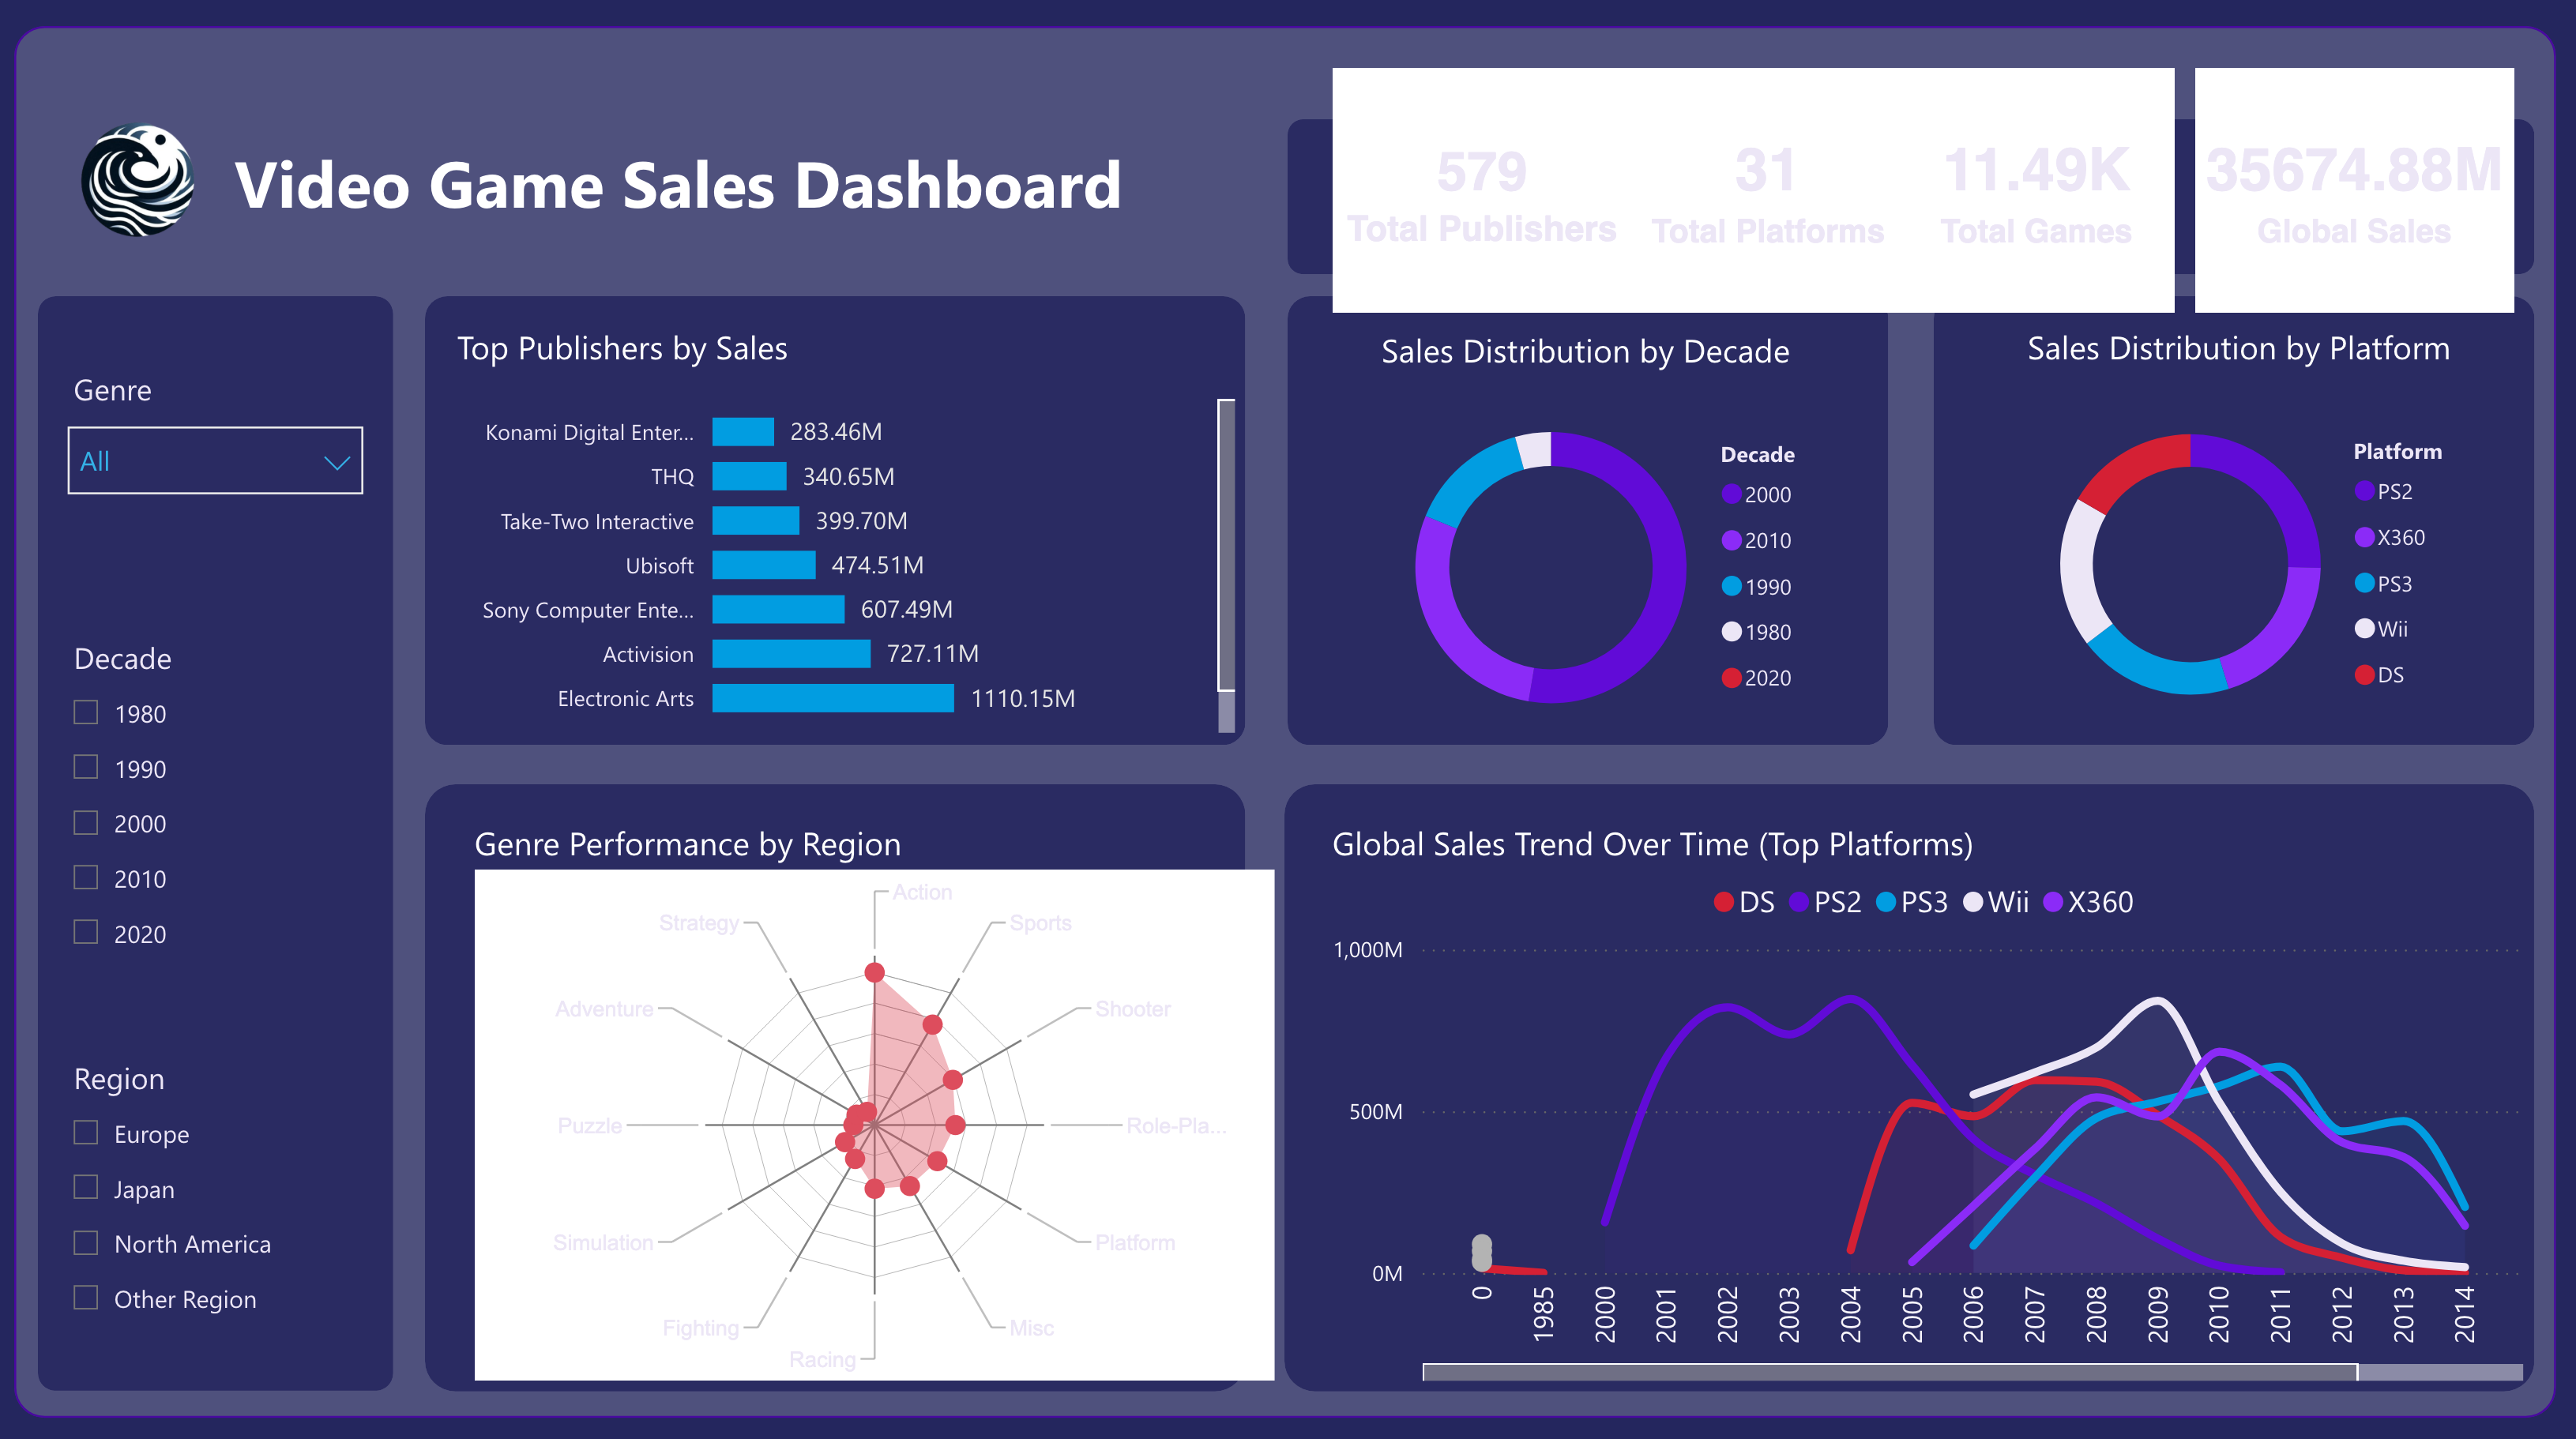

What the dashboard file says about the page in this screenshot:
{"tool":"powerbi","page":{"name":"第 1 页","canvas":[1280,720],"ordinal":0},"visuals":[{"type":"shape","box":[12.8,20.7,1255,687.3],"z":0},{"type":"shape","box":[641.1,67,615.6,76.5],"z":1000},{"type":"shape","box":[23.9,154.7,175.4,540.6],"z":2000},{"type":"shape","box":[215.3,154.7,405.1,221.7],"z":3000},{"type":"textbox","box":[116.4,67,615.6,63.8],"z":4000,"group":"g1"},{"type":"shape","box":[960,154.7,296.6,221.7],"z":4000},{"type":"shape","box":[641.1,154.7,296.6,221.7],"z":5000},{"type":"shape","box":[639.5,395.5,617.2,299.8],"z":6000},{"type":"shape","box":[215.3,395.5,405.1,299.8],"z":7000},{"type":"advanceCardE03760C5AB684758B56AA29F9E6C257B","fields":{"mainMeasure":["Final Data.Total Games"]},"box":[937.7,36.7,146.7,130.8],"z":8000},{"type":"areaChart","title":"Global Sales Trend Over Time (Top Platforms)","fields":{"Y":["Sum(Final Data.Global_Sales)"],"Category":["Final Data.Year"],"Series":["Final Data.Platform"]},"box":[658.6,411.4,598,283.9],"z":9000},{"type":"RadarChart1446119667547","title":"Genre Performance by Region","fields":{"Category":["Final Data.Genre"],"Y":["Sum(Final Data.Regional Sales)"]},"box":[234.4,411.4,405.1,283.9],"z":10000},{"type":"slicer","fields":{"Values":["Final Data.Region"]},"box":[28.7,523.1,132.4,185],"z":11000},{"type":"advanceCardE03760C5AB684758B56AA29F9E6C257B","fields":{"mainMeasure":["Final Data.Total Global Sales"]},"box":[1084.4,36.7,167.4,130.8],"z":12000},{"type":"advanceCardE03760C5AB684758B56AA29F9E6C257B","fields":{"mainMeasure":["Final Data.Total Platforms"]},"box":[798.9,36.7,159.5,130.8],"z":13000},{"type":"advanceCardE03760C5AB684758B56AA29F9E6C257B","fields":{"mainMeasure":["Final Data.Total Publishers"]},"box":[658.6,36.7,157.9,130.8],"z":14000},{"type":"donutChart","title":"Sales Distribution by Platform","fields":{"Category":["Final Data.Platform"],"Y":["Sum(Final Data.Regional Sales)"]},"box":[1001.5,165.8,232.8,220.1],"z":15000},{"type":"donutChart","title":"Sales Distribution by Decade","fields":{"Category":["Final Data.Decade"],"Y":["Sum(Final Data.Global_Sales)"]},"box":[682.5,167.4,234.4,220.1],"z":16000},{"type":"slicer","fields":{"Values":["Final Data.Decade"]},"box":[28.7,315.8,149.9,220.1],"z":17000},{"type":"clusteredBarChart","title":"Top Publishers by Sales","fields":{"Category":["Final Data.Publisher"],"Y":["Sum(Final Data.Regional Sales)"]},"box":[226.4,165.8,393.9,208.9],"z":18000},{"type":"image","box":[43.1,67,60.6,59],"z":19000},{"type":"group","id":"g1","title":"Group 1","box":[116.4,67,615.6,63.8],"z":20000},{"type":"slicer","fields":{"Values":["Final Data.Genre"]},"box":[28.7,183.4,165.8,122.8],"z":21000}]}

Visuals, with their boxes in screenshot pixels (x1, y1, x2, y2), scaled from the page's 1280x720 canvas onto the 2576x1439 screenshot:
shape: rect(26, 41, 2552, 1415)
shape: rect(1290, 134, 2529, 287)
shape: rect(48, 309, 401, 1389)
shape: rect(434, 309, 1249, 753)
textbox: rect(235, 134, 1473, 261)
shape: rect(1932, 309, 2529, 753)
shape: rect(1290, 309, 1887, 753)
shape: rect(1287, 791, 2529, 1389)
shape: rect(434, 791, 1249, 1389)
advanceCardE03760C5AB684758B56AA29F9E6C257B - Final Data.Total Games: rect(1887, 73, 2183, 335)
"Global Sales Trend Over Time (Top Platforms)" areaChart: rect(1326, 822, 2529, 1389)
"Genre Performance by Region" RadarChart1446119667547: rect(472, 822, 1287, 1389)
slicer - Final Data.Region: rect(58, 1046, 324, 1415)
advanceCardE03760C5AB684758B56AA29F9E6C257B - Final Data.Total Global Sales: rect(2183, 73, 2519, 335)
advanceCardE03760C5AB684758B56AA29F9E6C257B - Final Data.Total Platforms: rect(1608, 73, 1929, 335)
advanceCardE03760C5AB684758B56AA29F9E6C257B - Final Data.Total Publishers: rect(1326, 73, 1643, 335)
"Sales Distribution by Platform" donutChart: rect(2015, 332, 2484, 772)
"Sales Distribution by Decade" donutChart: rect(1374, 335, 1845, 775)
slicer - Final Data.Decade: rect(58, 631, 359, 1071)
"Top Publishers by Sales" clusteredBarChart: rect(456, 332, 1248, 749)
image: rect(87, 134, 209, 252)
"Group 1" group: rect(235, 134, 1473, 261)
slicer - Final Data.Genre: rect(58, 366, 392, 612)
